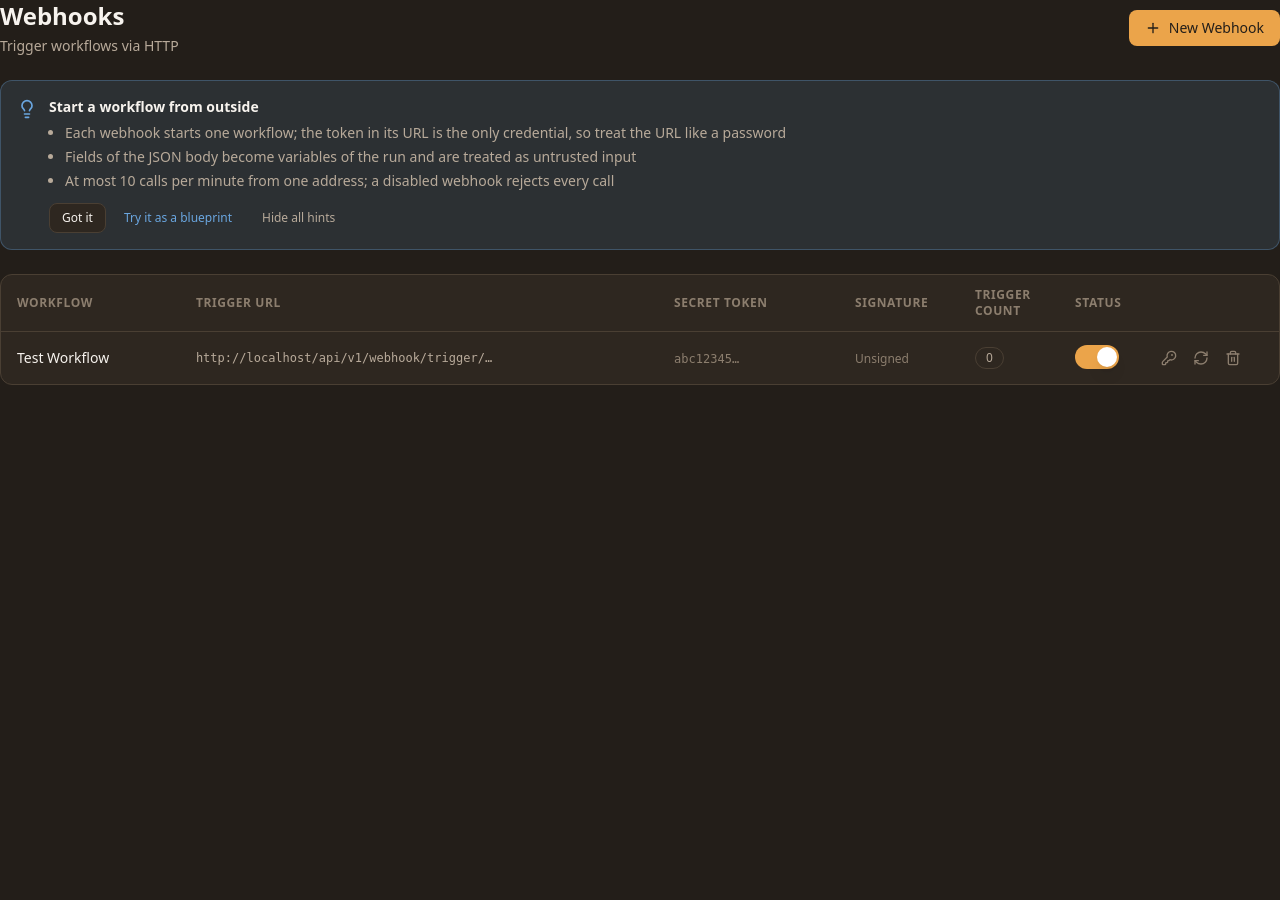
Webhooks — creating and one-time token reveal › reveals the new token after a confirmed regeneration
This screenshot has width=1280, height=900.
Click the button named "Regenerate token" at coordinates (1201, 358), box left=1187, top=344, right=1215, bottom=372
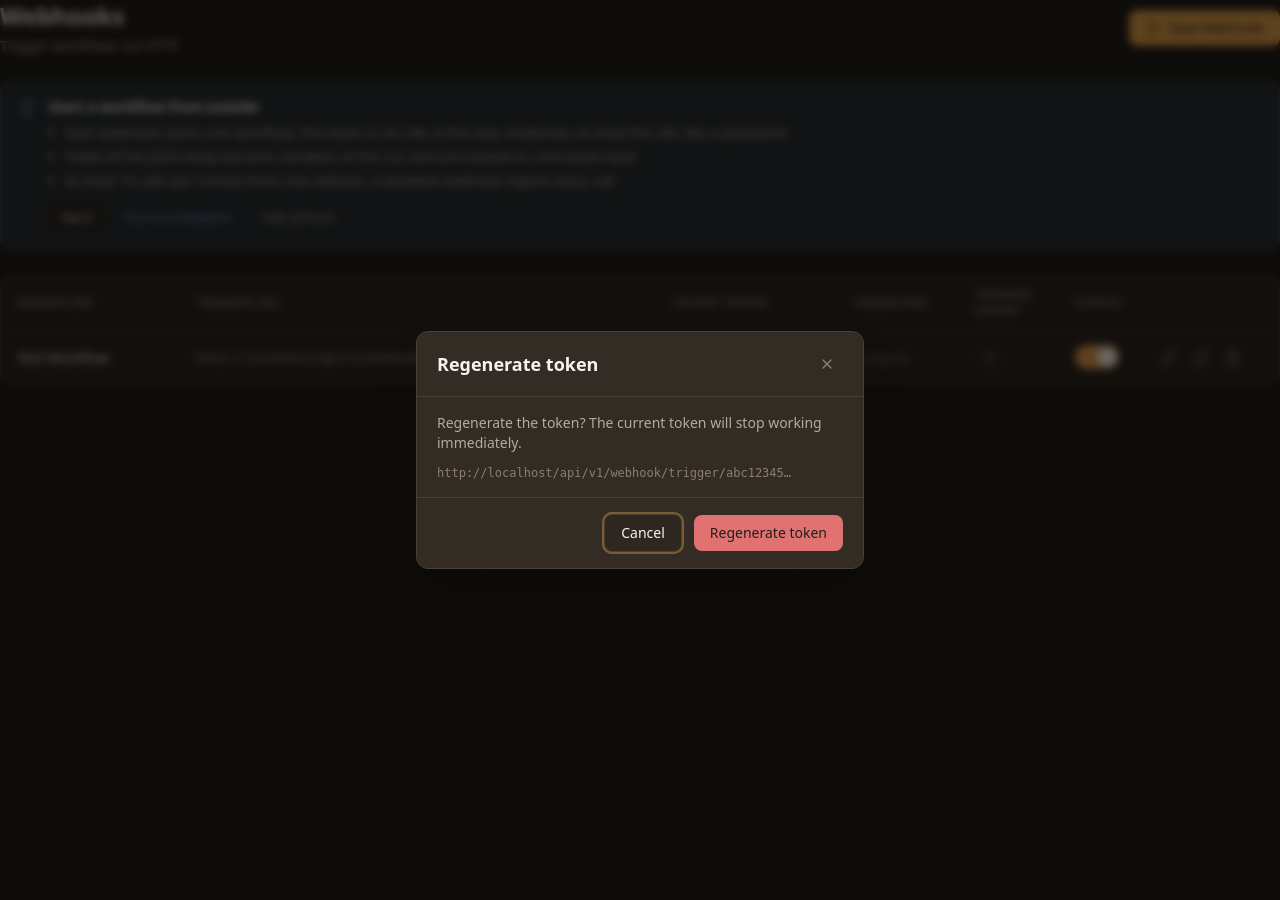
expect the text "Regenerate the token? The current token will stop working immediately." is shown: met, box left=437, top=413, right=843, bottom=453
Click the button "Regenerate token" at coordinates (768, 533), box left=694, top=515, right=843, bottom=551
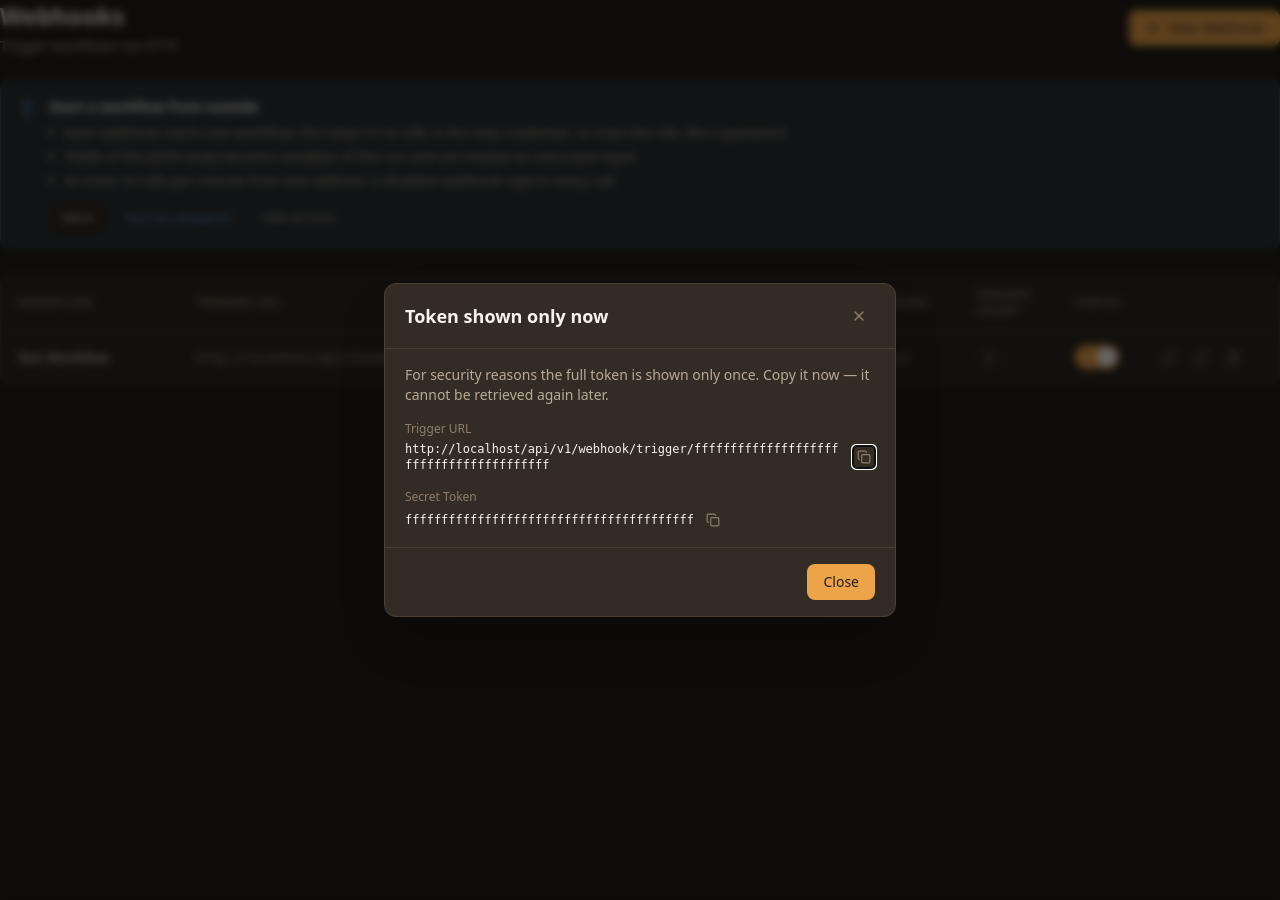
expect the heading "Token shown only now" is shown: met, box left=405, top=302, right=608, bottom=330
